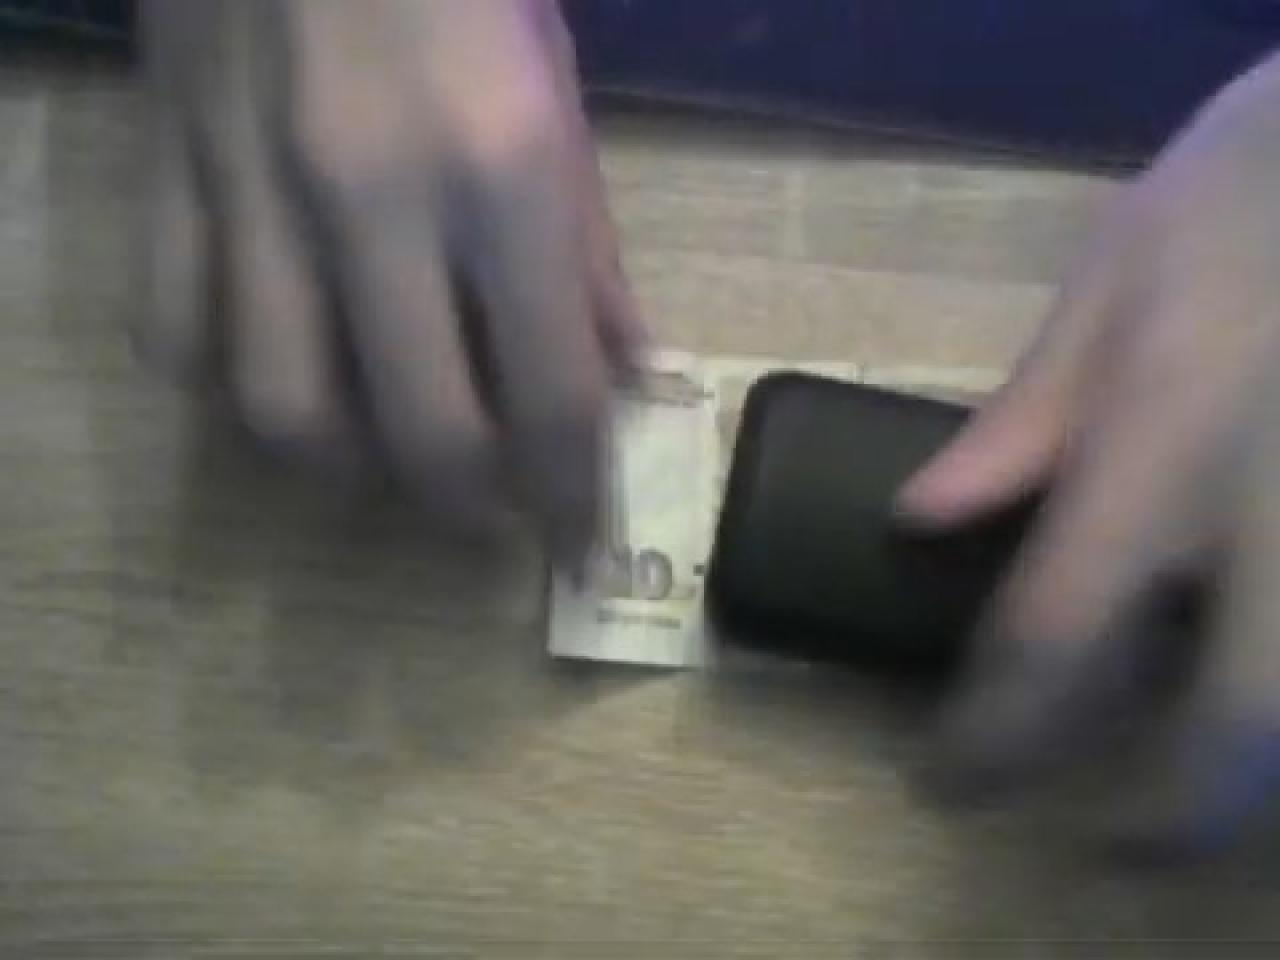10leva: (608, 360, 776, 670)
